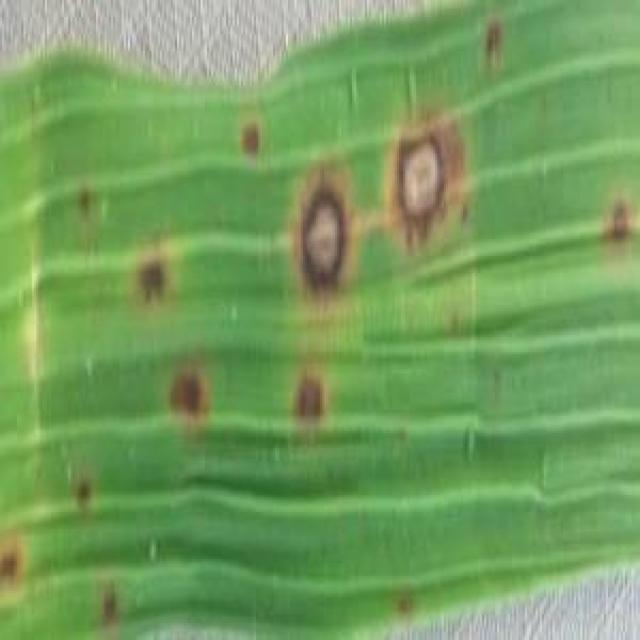Brown_Spot: (371, 111, 475, 251), (291, 171, 354, 303), (83, 582, 140, 623), (132, 255, 174, 303), (295, 372, 332, 426), (64, 468, 99, 515), (0, 528, 22, 601), (173, 368, 204, 419), (479, 16, 508, 62), (610, 195, 635, 243), (72, 187, 113, 215), (242, 120, 272, 156), (401, 598, 412, 615)
